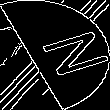N_SW: (13, 27, 97, 83)
